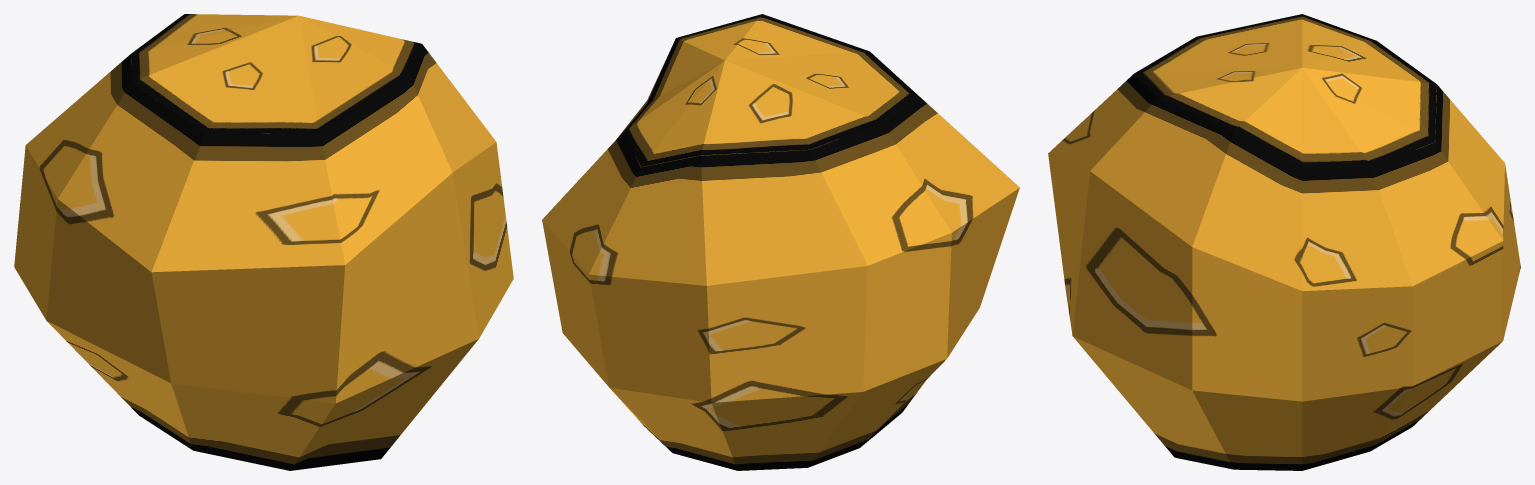
Rendered from Asteroid.fbx.
3 renders of one model, left to right at view 1: azimuth 30°, elevation 25°; view 2: azimuth 150°, elevation 25°; view 3: azimuth 270°, elevation 25°, orthographic. The views are drawn at different scales.
Parts seen in each view (by area): view 1: Asteroid; view 2: Asteroid; view 3: Asteroid.
Boxes of the visible parts, x1,y1,x2,y2 form: Asteroid: (14, 14, 513, 470); Asteroid: (542, 14, 1019, 470); Asteroid: (1048, 14, 1520, 470).
Size of the model in its own units: 2.26 by 2.22 by 2.4.
